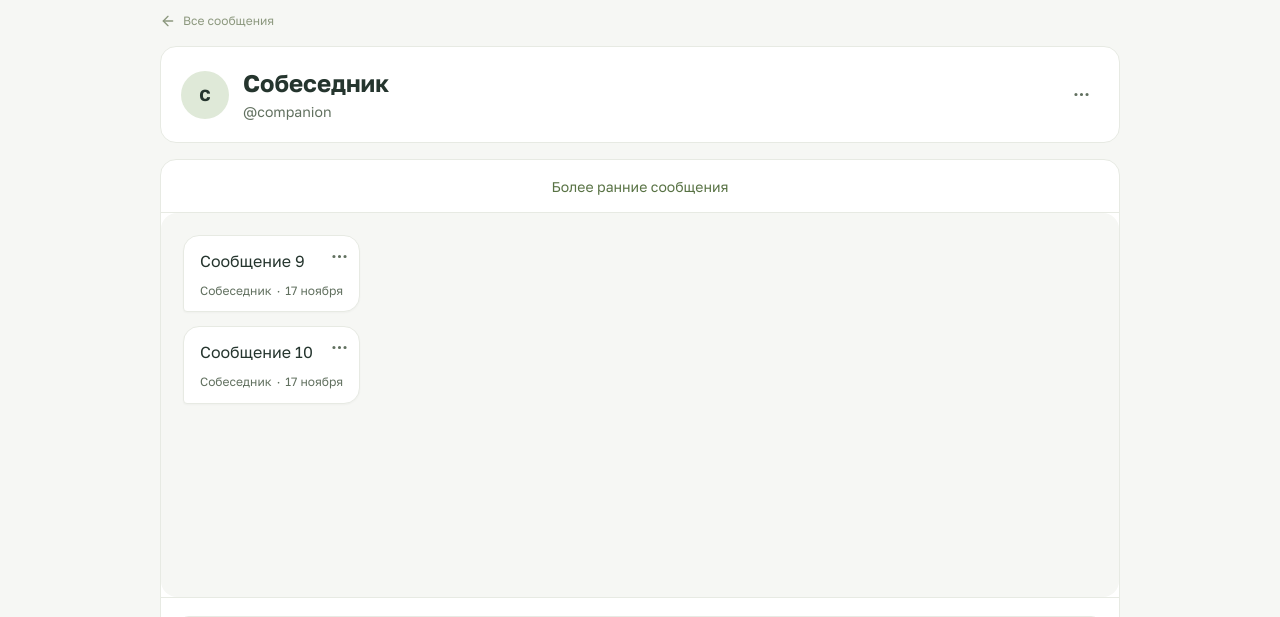
Test: older-history failures keep current messages and retry the same cursor
Expected: the text "Сообщение 10" is shown, [200,342,313,362]
Click the button "Более ранние сообщения": {"x": 640, "y": 186} [552,168,728,204]
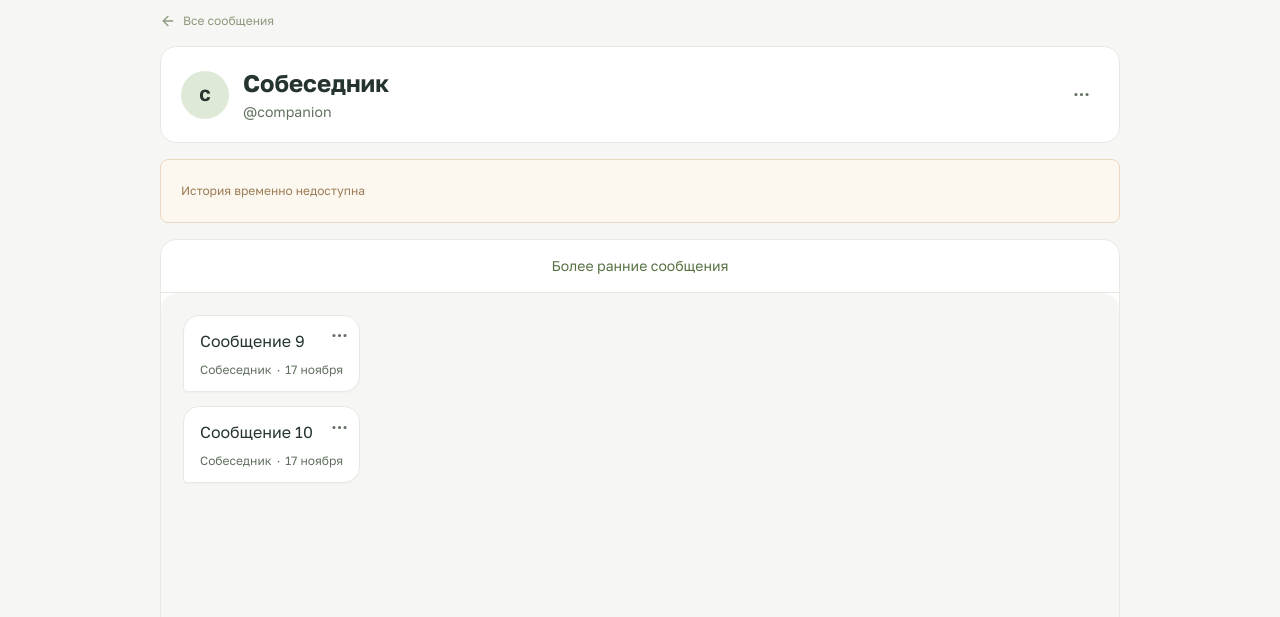
Expected: the text "Сообщение 9" is shown, [200,331,305,351]
Now the text "История временно недоступна" is shown, box [181,183,365,198]
Click the button "Более ранние сообщения": {"x": 640, "y": 266} [552,248,728,284]
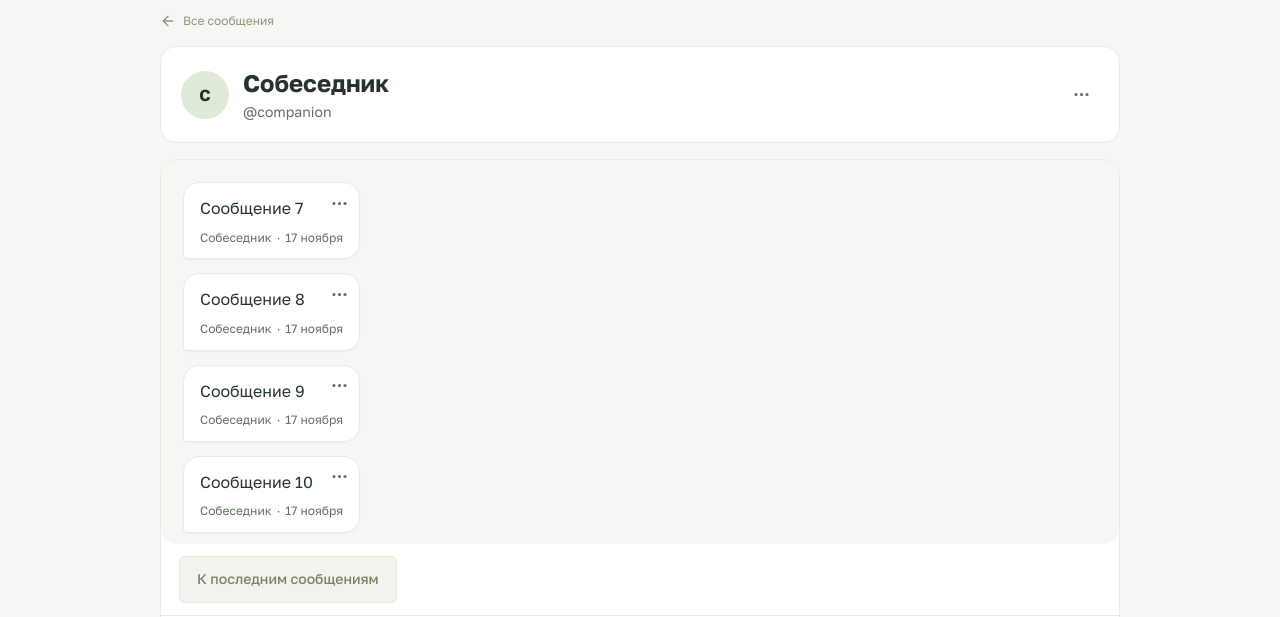
Now the text "Сообщение 7" is shown, box [200,198,304,218]
